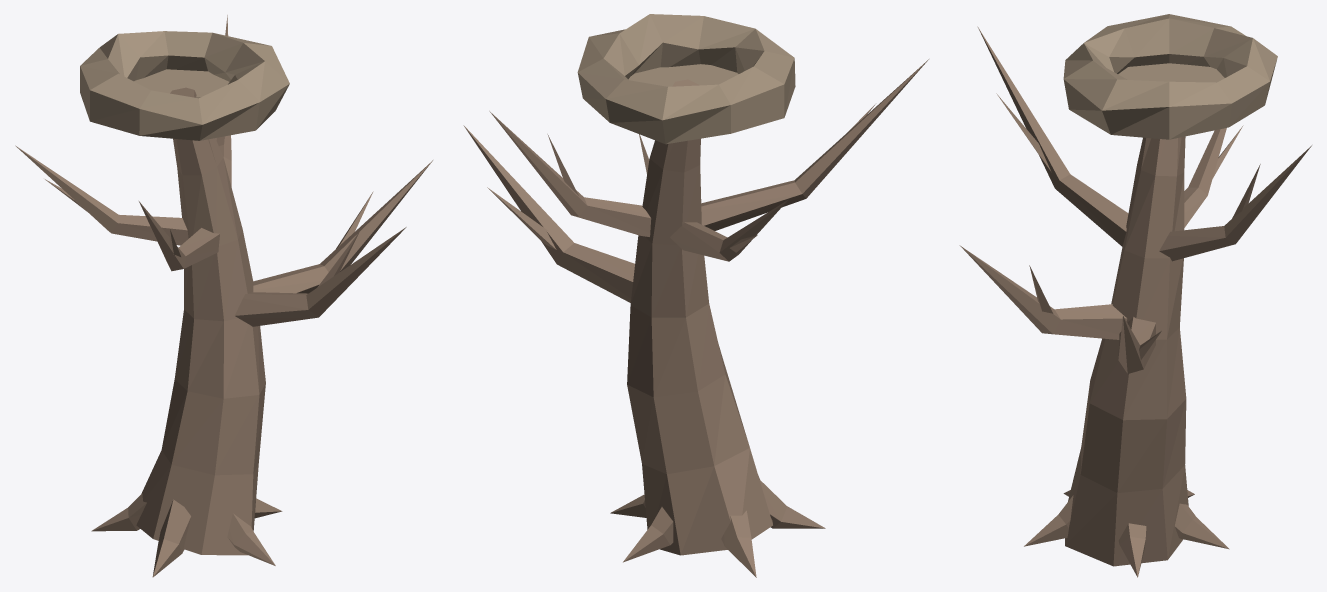
File: Tree_Landmark_Nest.glb
3 renders of one model, left to right at view 1: azimuth 30°, elevation 25°; view 2: azimuth 150°, elevation 25°; view 3: azimuth 270°, elevation 25°, orthographic. The views are drawn at different scales.
Parts seen in each view (by area): view 1: Wood, Nest; view 2: Wood, Nest; view 3: Wood, Nest.
Boxes of the visible parts, x1,y1,x2,y2 form: Wood: (15, 15, 432, 577); Nest: (80, 31, 289, 140); Wood: (463, 59, 928, 577); Nest: (577, 14, 795, 144); Wood: (959, 26, 1311, 577); Nest: (1063, 14, 1277, 139).
Size of the model in its own units: 28.44 by 35.18 by 22.81.
